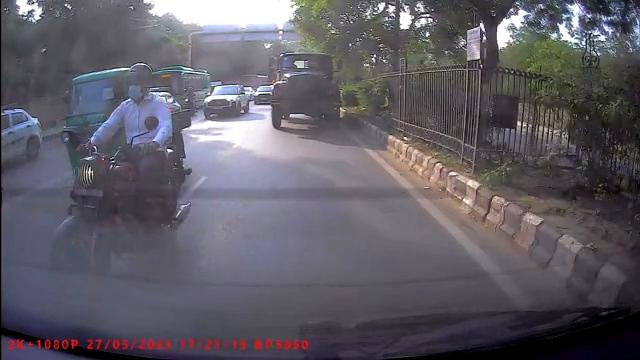motorcycle_with_helmet: (44, 62, 195, 274)
